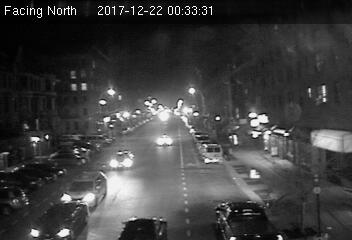car: (213, 196, 281, 240), (59, 168, 109, 208), (109, 149, 136, 170), (155, 134, 174, 147)
truck: (200, 143, 222, 164)
